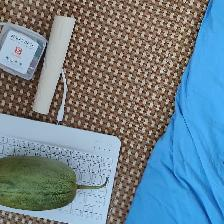gua: (7, 162, 98, 206)
